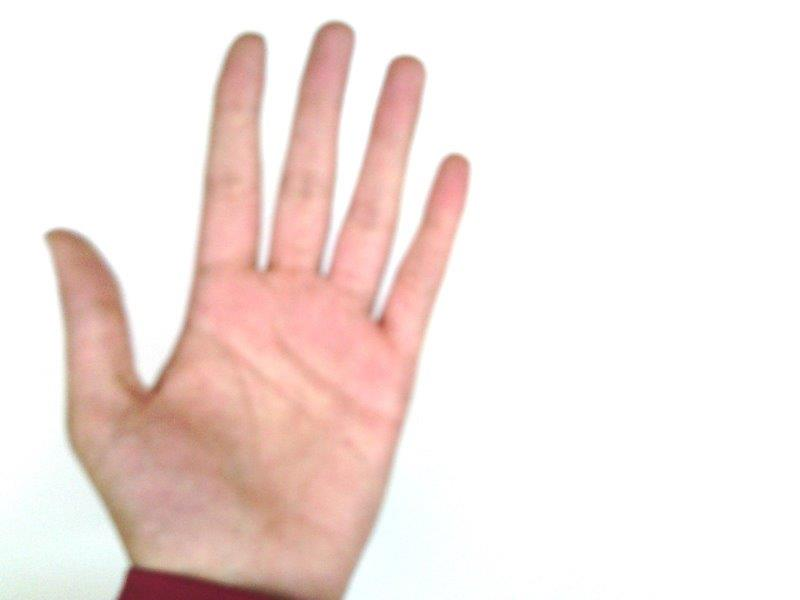hand: (47, 21, 469, 568)
